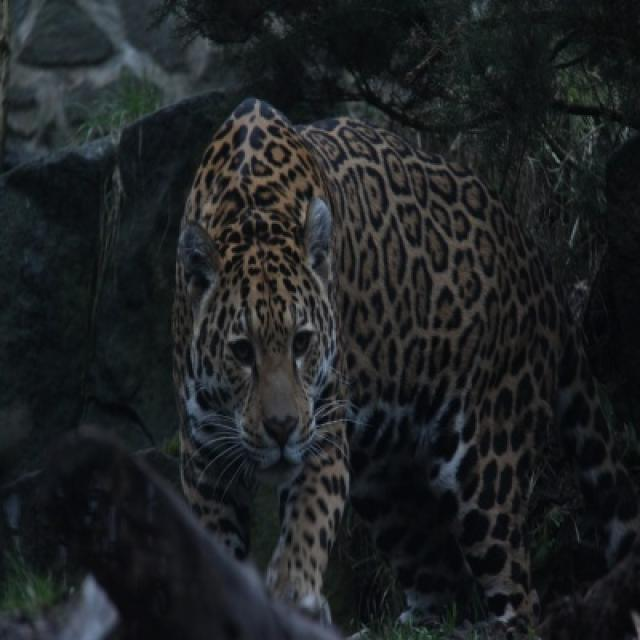Jaguar: (168, 96, 628, 627)
